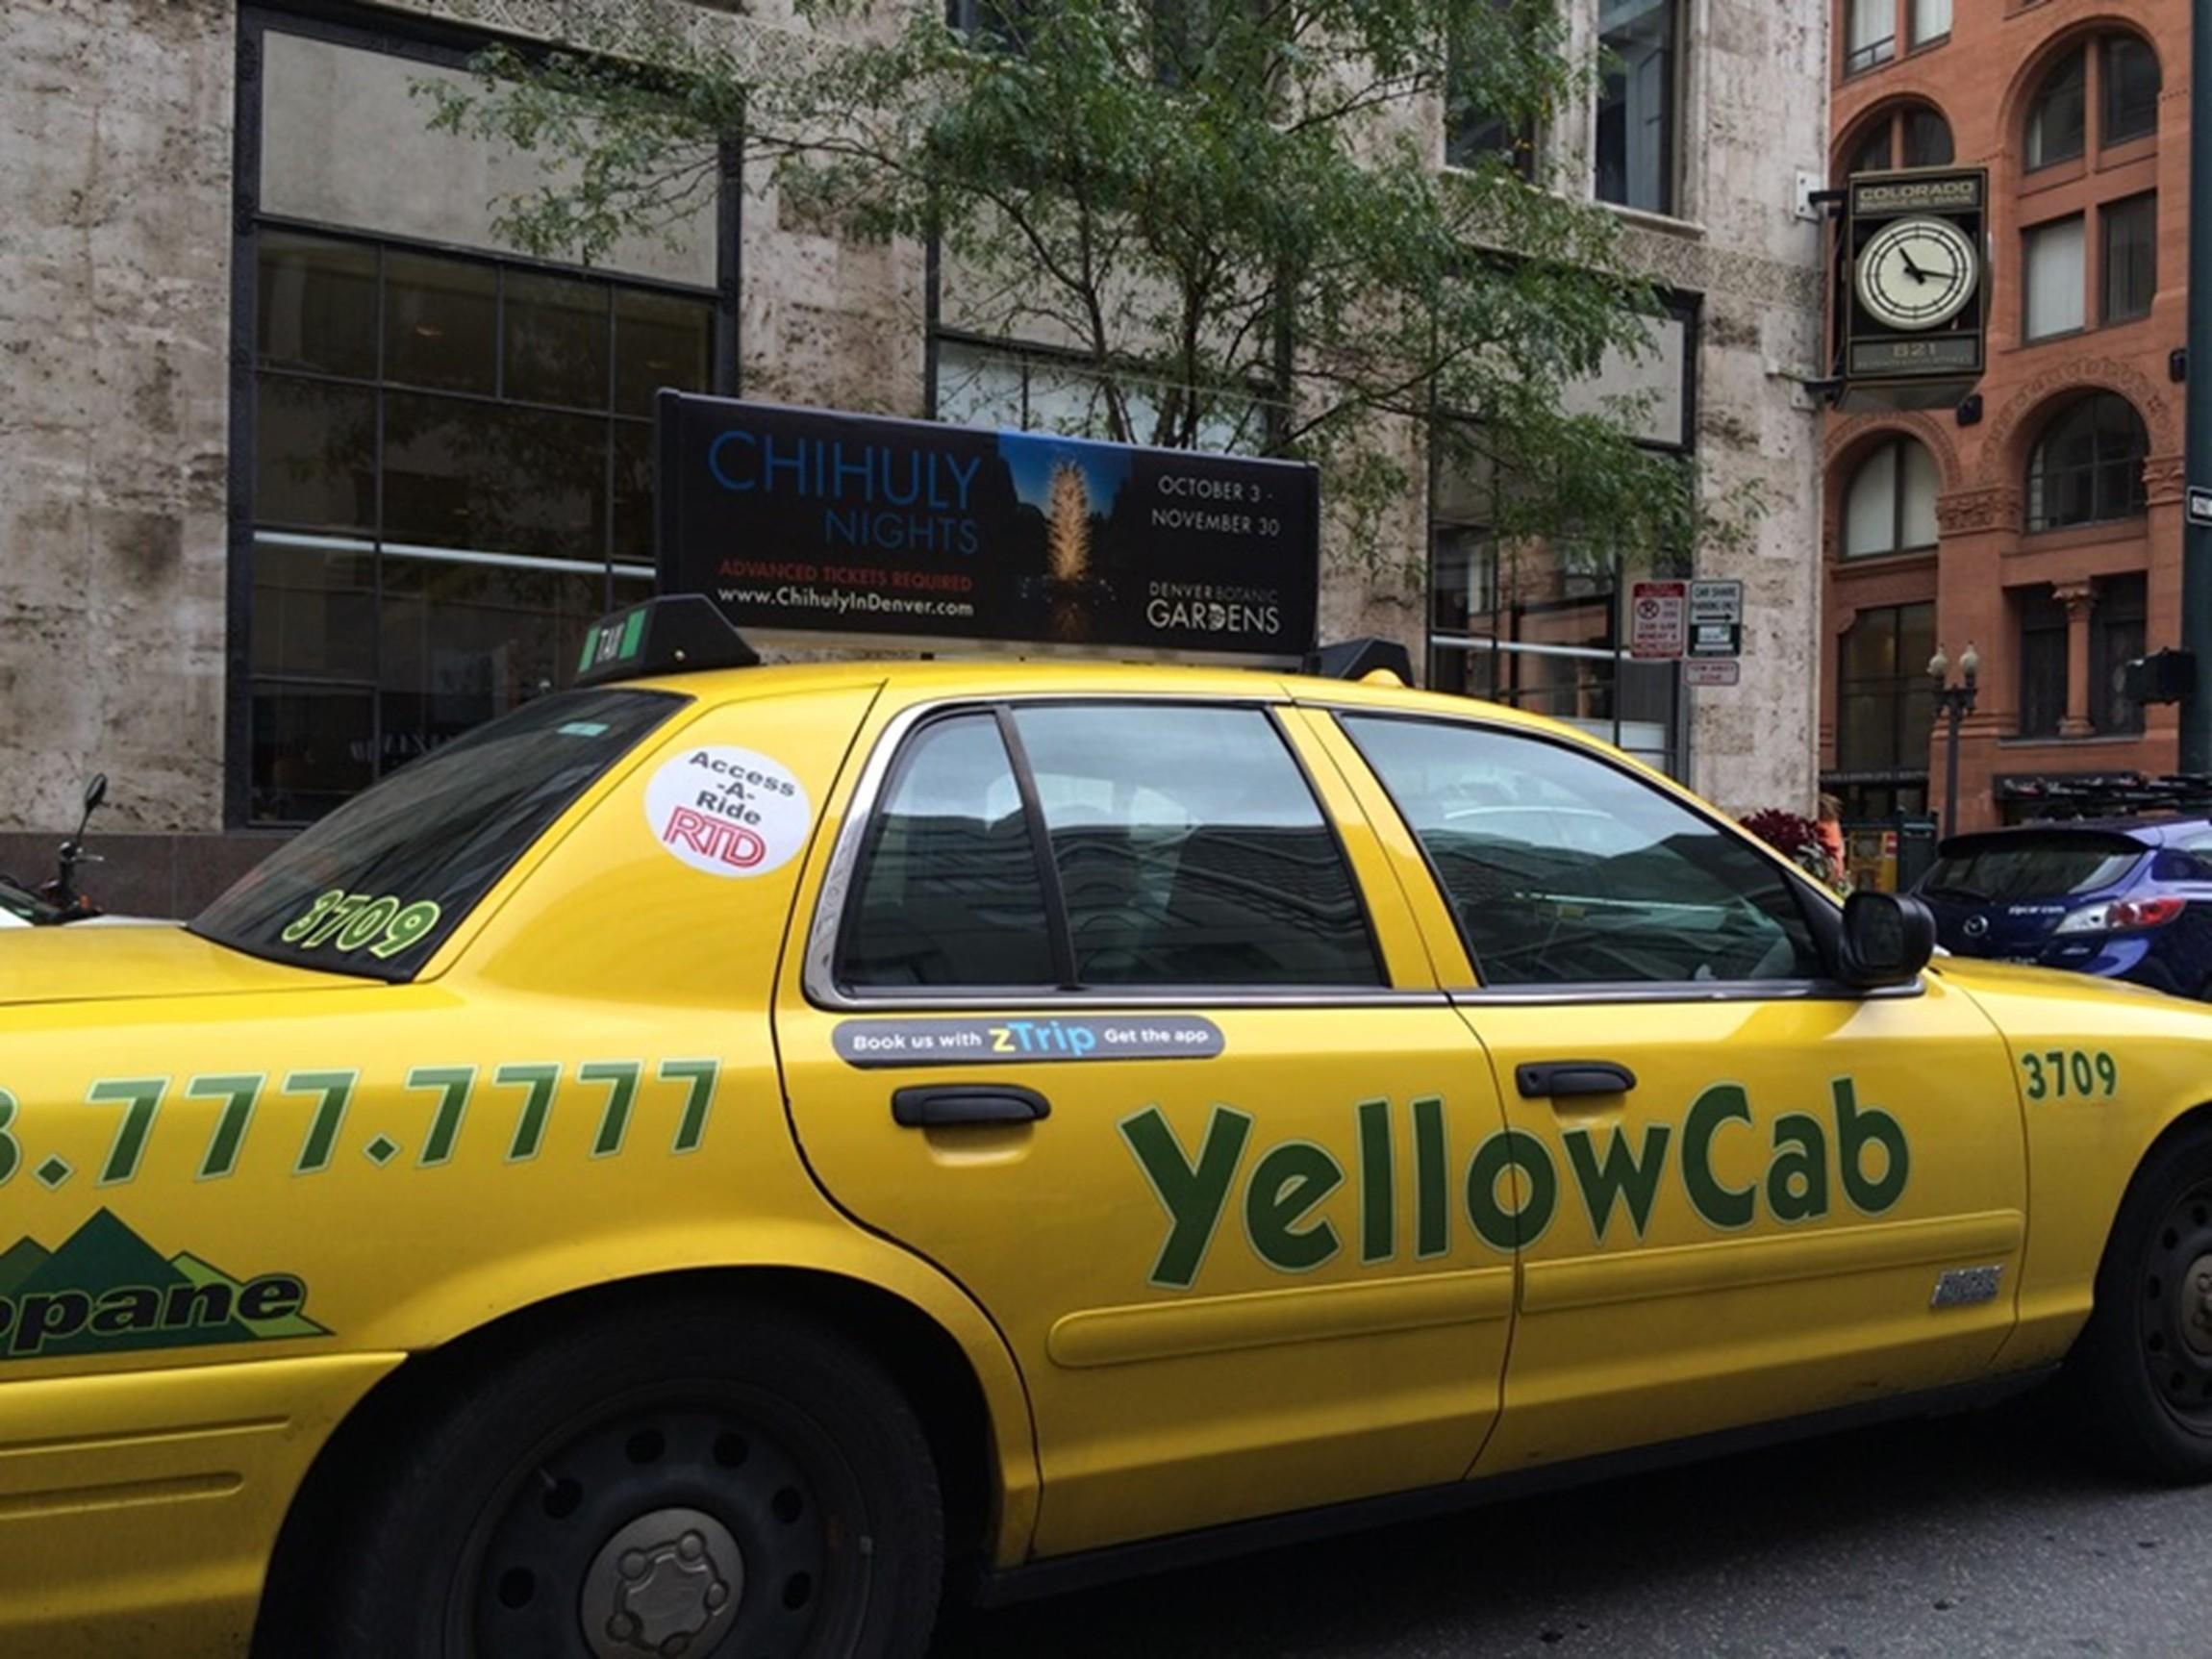taxi: (2, 629, 2188, 1645)
